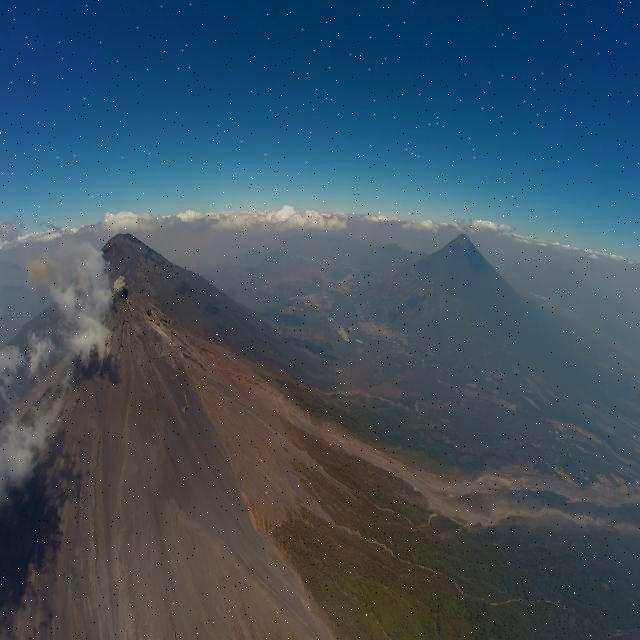Plume: (112, 273, 130, 293)
Summit: (86, 287, 195, 384)
